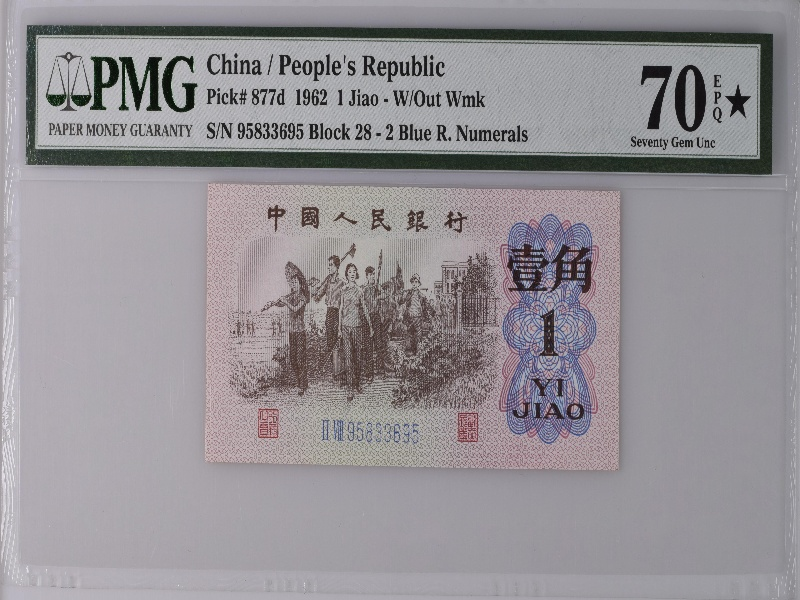papernote: (203, 180, 621, 471)
